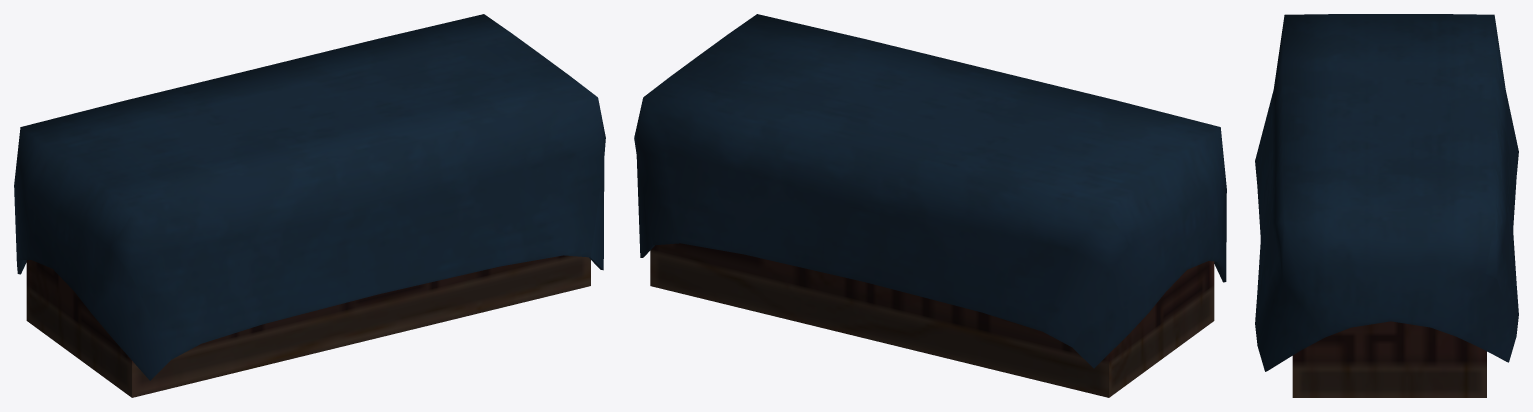
3 views of the same model, side by side, from view 1: azimuth 30°, elevation 25°; view 2: azimuth 150°, elevation 25°; view 3: azimuth 270°, elevation 25° (orthographic). The views are drawn at different scales.
Parts seen in each view (by area): view 1: Box; view 2: Box; view 3: Box.
Boxes of the visible parts, <box> form: Box: <box>14,14,605,397</box>; Box: <box>634,14,1226,397</box>; Box: <box>1255,14,1518,397</box>.
Size of the model in its own units: 3.65 by 1.31 by 1.77.
